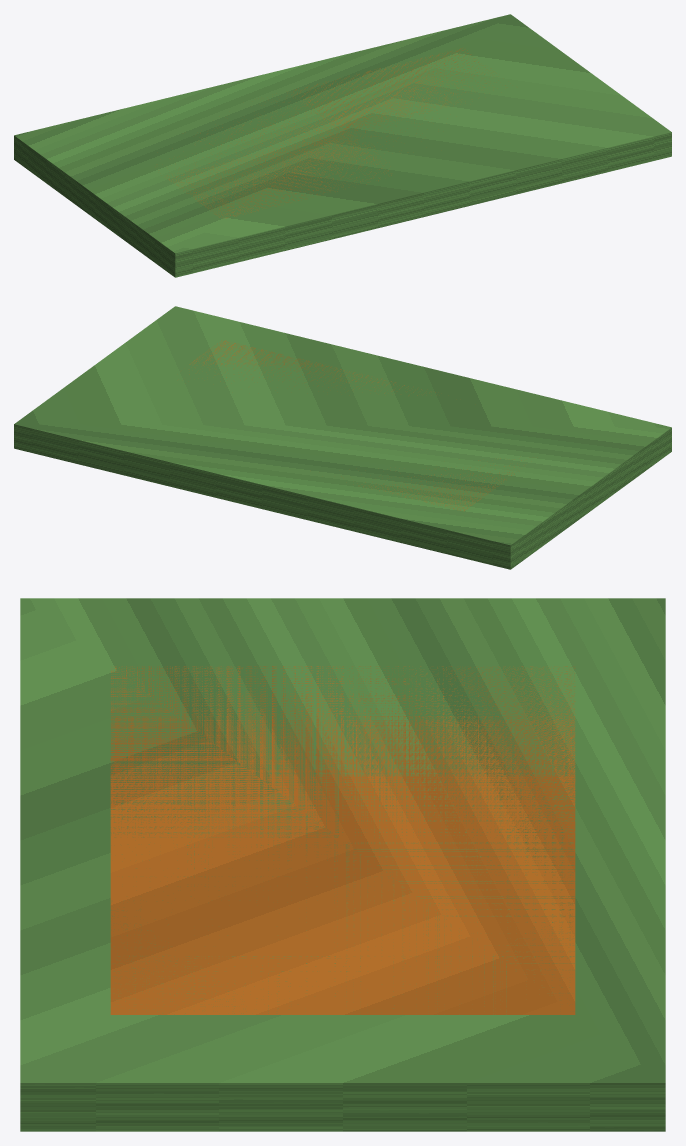
The model's file is AST_Platform.glb.
3 views of the same model, one above another, from view 1: azimuth 30°, elevation 25°; view 2: azimuth 150°, elevation 25°; view 3: azimuth 270°, elevation 25° (orthographic). The views are drawn at different scales.
Parts seen in each view (by area): view 1: VIS_AST_Platform_LOD0, VIS_AST_Platform_GardenInlay; view 2: VIS_AST_Platform_LOD0, VIS_AST_Platform_GardenInlay; view 3: VIS_AST_Platform_LOD0, VIS_AST_Platform_GardenInlay.
Boxes of the visible parts, x1,y1,x2,y2 form: VIS_AST_Platform_LOD0: [14, 14, 671, 277]; VIS_AST_Platform_GardenInlay: [167, 48, 505, 218]; VIS_AST_Platform_LOD0: [14, 306, 671, 569]; VIS_AST_Platform_GardenInlay: [189, 340, 521, 510]; VIS_AST_Platform_LOD0: [20, 598, 665, 1131]; VIS_AST_Platform_GardenInlay: [110, 666, 575, 1014].
Size of what is drawn, in the model's own units: 6.4 by 0.3 by 3.6.
Materials: 2 (2 with a texture image).
